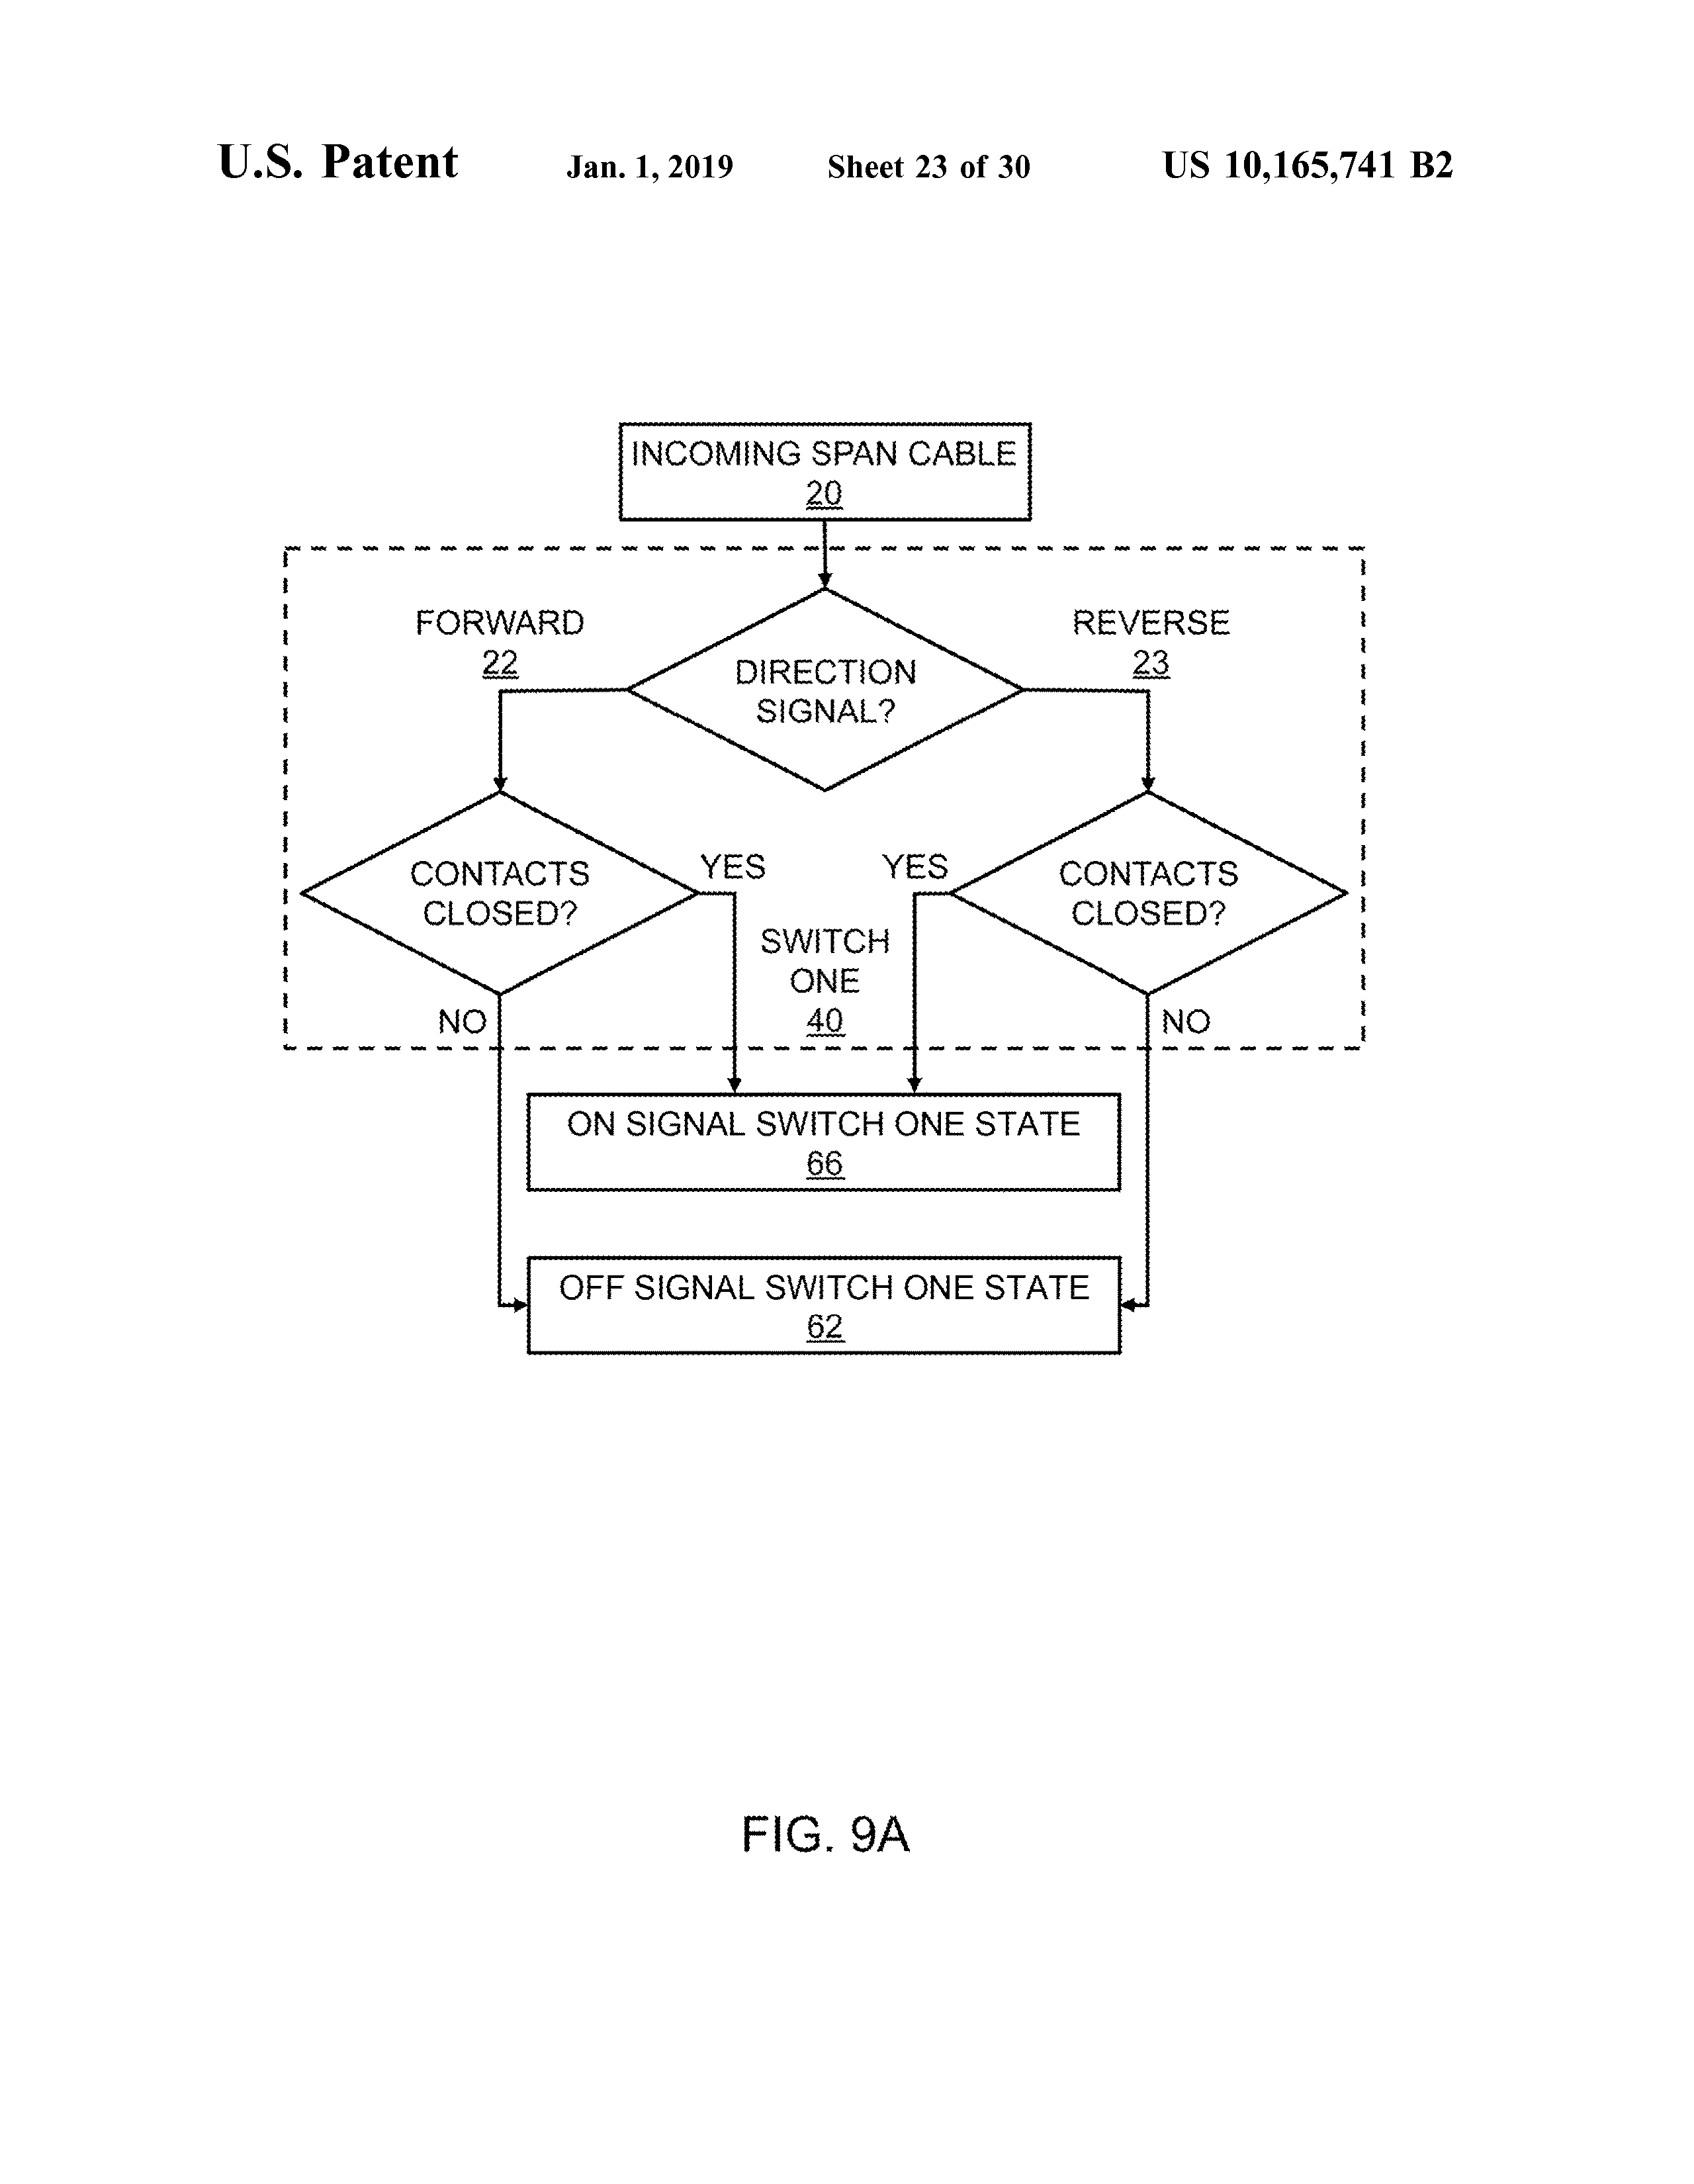patent image: (264, 397, 1416, 1900)
